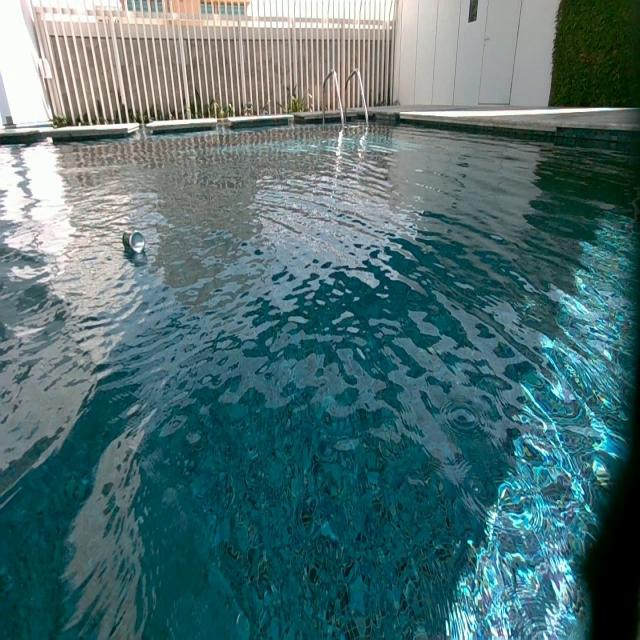Cans: (123, 231, 145, 255)
